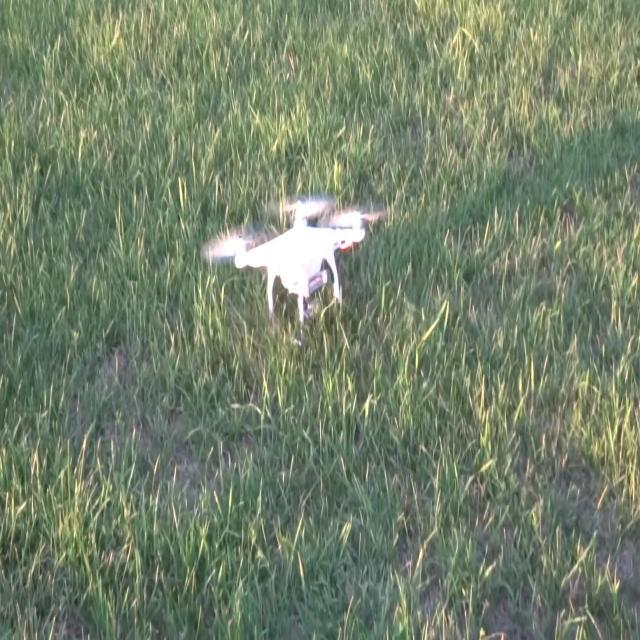drone: (205, 192, 385, 326)
